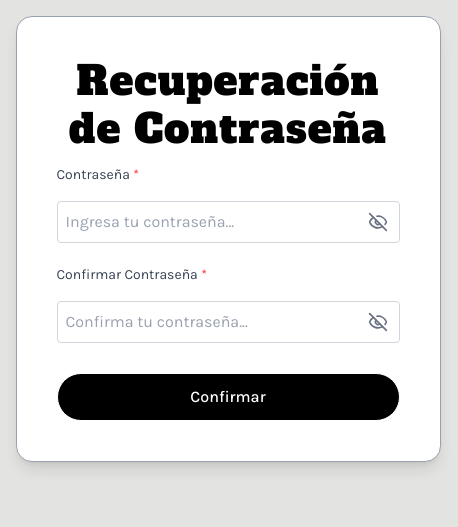
Test: ResetPage › muestra error si las contraseñas no coinciden
The width and height of the screenshot is (458, 527).
Type "Admin1234" into the password field with test id "password-input" at (228, 222), box [56, 201, 400, 243]
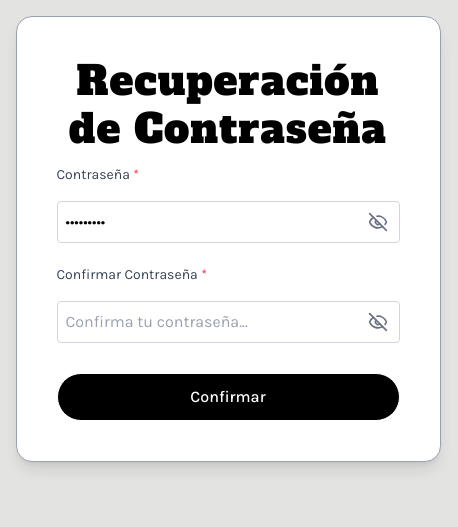
Type "Admin12345" into the password field with test id "confirmation-input" at (228, 322), box [56, 301, 400, 343]
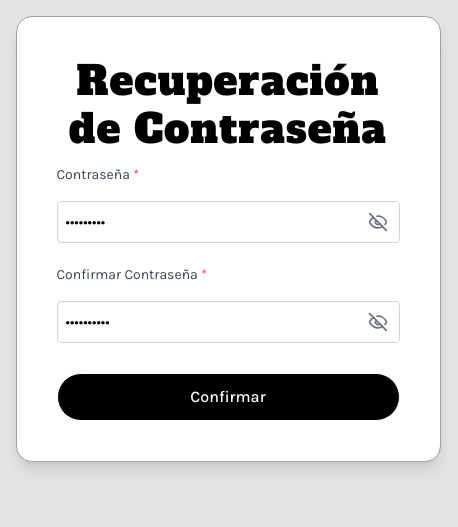
Click the button "Confirmar" at (228, 397), box [56, 373, 400, 421]
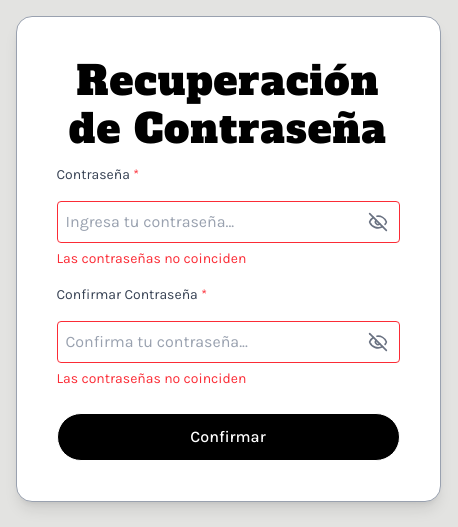
Result: the text "Las contraseñas no coinciden" is shown 2 times at [56, 249, 246, 269]; [56, 369, 246, 389]
